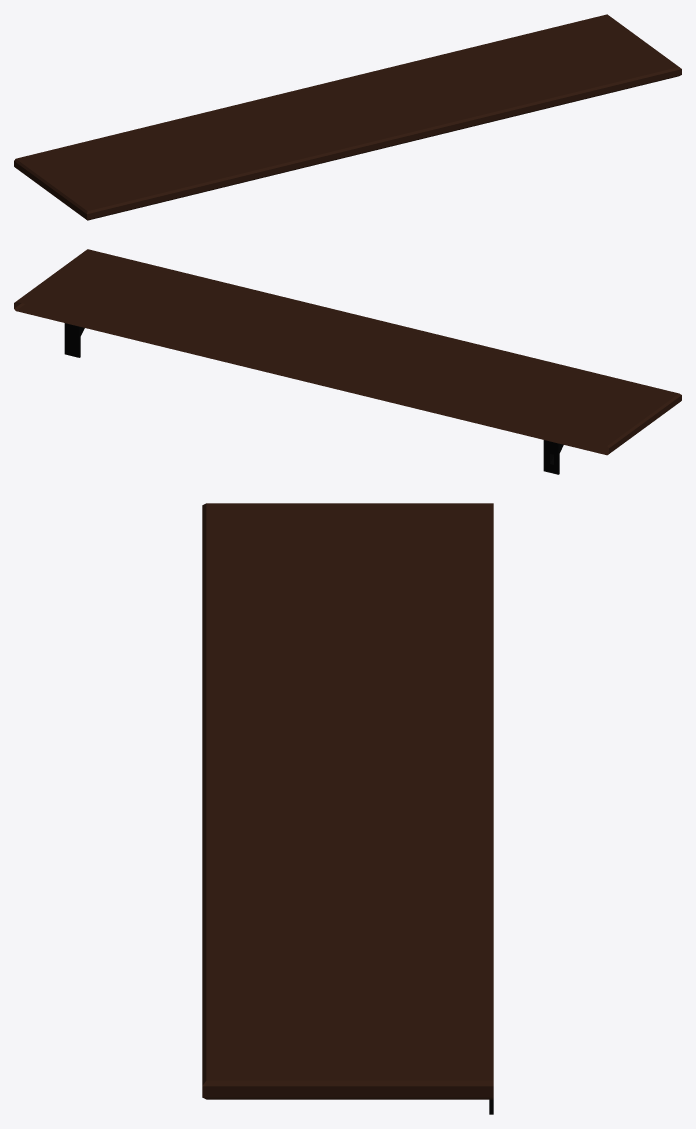
Rendered from Shelf.fbx.
The picture shows the model from 3 angles, top to bottom: view 1: azimuth 30°, elevation 25°; view 2: azimuth 150°, elevation 25°; view 3: azimuth 270°, elevation 25°; orthographic projection. The views are drawn at different scales.
Parts seen in each view (by area): view 1: Cube.001; view 2: Cube.001; view 3: Cube.001.
Part boxes in pixels (x1,y1,x2,y2): Cube.001: [14, 14, 681, 220]; Cube.001: [14, 249, 681, 474]; Cube.001: [202, 503, 493, 1114].
Bounding box in the file's own units: 951 × 62.17 × 202.
